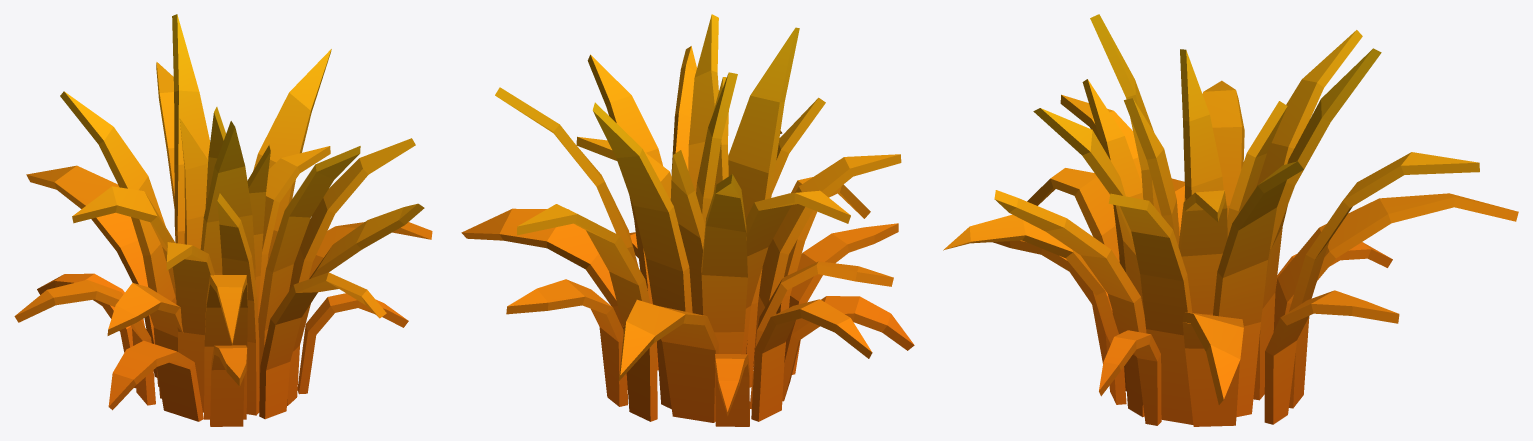
File: autumn shrub.fbx
3 renders of one model, left to right at view 1: azimuth 30°, elevation 25°; view 2: azimuth 150°, elevation 25°; view 3: azimuth 270°, elevation 25°, orthographic. The views are drawn at different scales.
Parts seen in each view (by area): view 1: autumn shrub; view 2: autumn shrub; view 3: autumn shrub.
Part boxes in pixels (x1=…): autumn shrub: x1=14, y1=14, x2=432, y2=426; autumn shrub: x1=461, y1=14, x2=914, y2=426; autumn shrub: x1=943, y1=14, x2=1518, y2=426.
Bounding box in the file's own units: 268 × 201 × 292.
